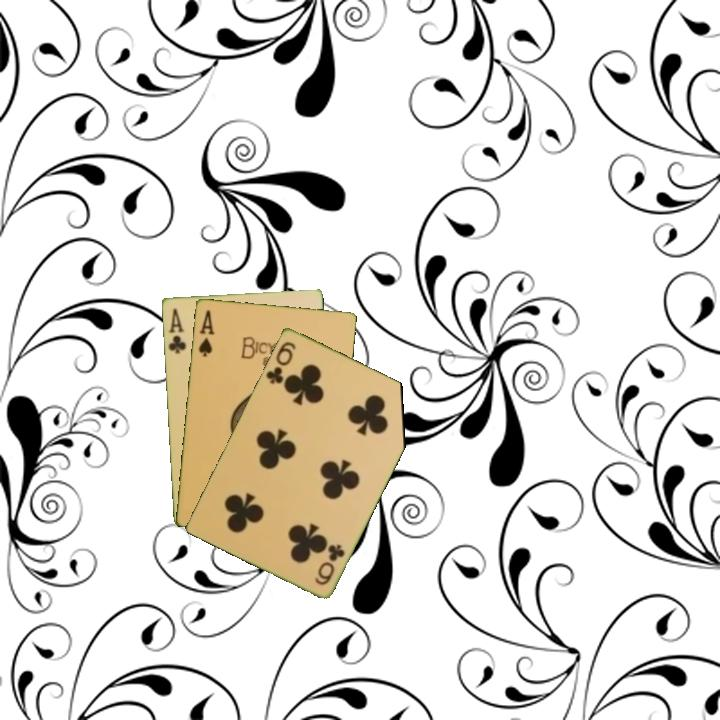6c: (262, 338, 299, 387), (311, 540, 348, 588)
Ac: (164, 305, 189, 356)
As: (195, 306, 217, 359)
